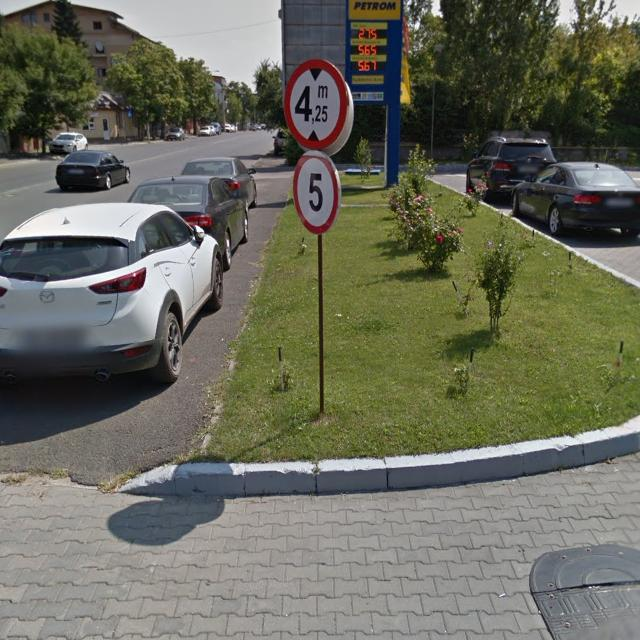forb_speed_over_5: (292, 152, 342, 234)
